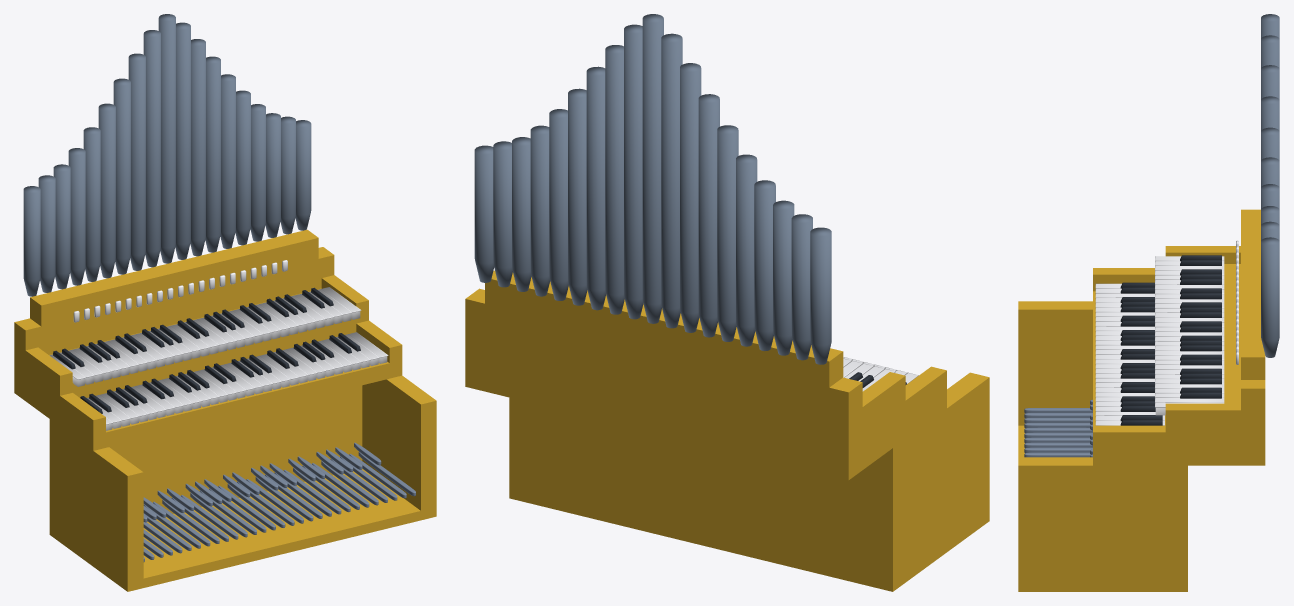
Rendered from OrganModel.glb.
The picture shows the model from 3 angles, left to right: view 1: azimuth 30°, elevation 25°; view 2: azimuth 150°, elevation 25°; view 3: azimuth 270°, elevation 25°; orthographic projection. The views are drawn at different scales.
Parts seen in each view (by area): view 1: Body, Pipes, Pedal.001, WhiteKeys.001, WhiteKeys, Pedal.000, BlackKeys.001, BlackKeys, Switch; view 2: Body, Pipes, WhiteKeys.001; view 3: Body, Pipes, WhiteKeys.001, BlackKeys.001, WhiteKeys, BlackKeys, Pedal.001, Switch.
Boxes of the visible parts, box(x1,y1,x2,y2) form: Body: box(14, 229, 436, 591); Pipes: box(23, 14, 311, 296); Pedal.001: box(143, 452, 415, 561); WhiteKeys.001: box(49, 287, 361, 386); WhiteKeys: box(87, 332, 388, 430); Pedal.000: box(143, 442, 381, 522); BlackKeys.001: box(53, 287, 333, 369); BlackKeys: box(80, 333, 360, 413); Switch: box(73, 260, 287, 322); Body: box(465, 270, 989, 591); Pipes: box(474, 14, 831, 364); WhiteKeys.001: box(843, 358, 895, 391); Body: box(1018, 209, 1265, 591); Pipes: box(1261, 14, 1279, 357); WhiteKeys.001: box(1155, 256, 1224, 415); BlackKeys.001: box(1180, 255, 1221, 398); WhiteKeys: box(1095, 283, 1164, 425); BlackKeys: box(1120, 282, 1162, 425); Pedal.001: box(1024, 408, 1092, 457); Switch: box(1236, 240, 1238, 364).
Bounding box in the file's own units: 18.44 × 25.77 × 12.41.
1 material, 1 textured.
